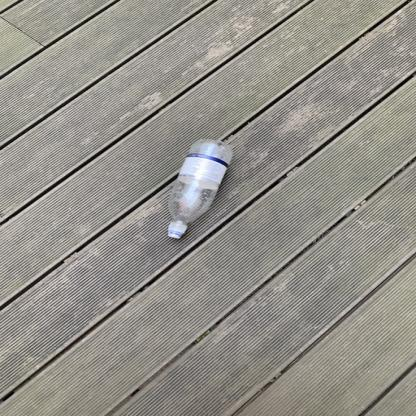trash: (165, 136, 235, 242)
